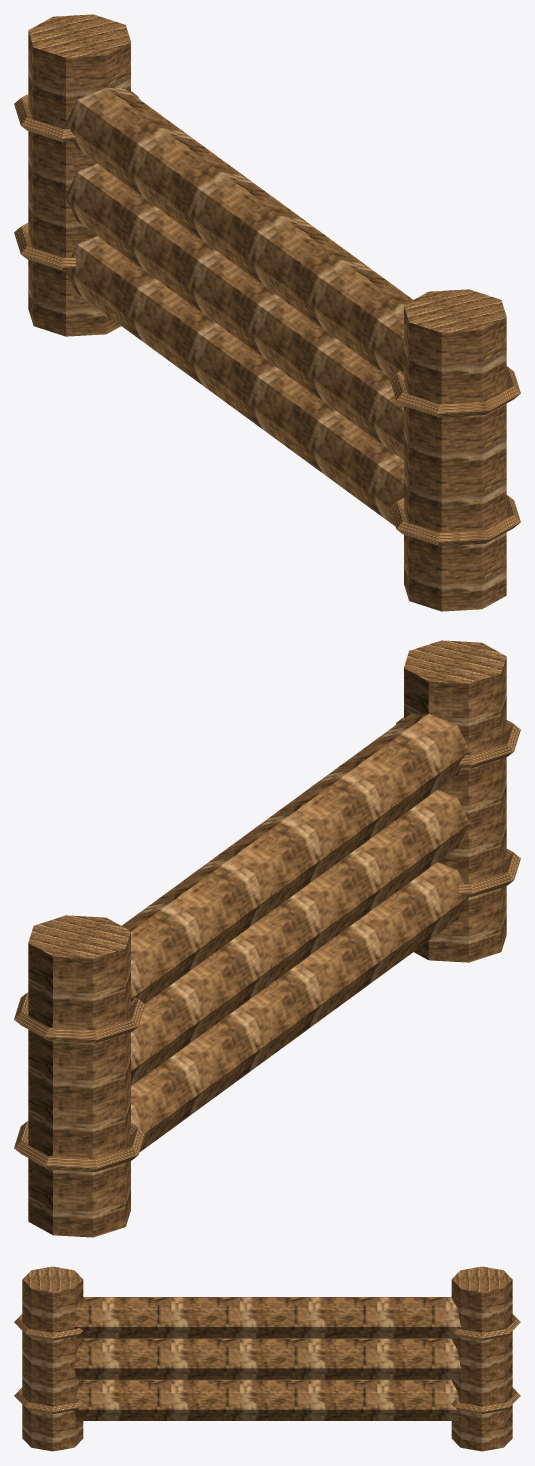
File: palisade.glb
The picture shows the model from 3 angles, top to bottom: view 1: azimuth 30°, elevation 25°; view 2: azimuth 150°, elevation 25°; view 3: azimuth 270°, elevation 25°; orthographic projection. The views are drawn at different scales.
Visible parts, largest first — view 1: Palisade; view 2: Palisade; view 3: Palisade.
Part boxes in pixels (x1=…): Palisade: x1=14, y1=14, x2=520, y2=611; Palisade: x1=14, y1=640, x2=520, y2=1237; Palisade: x1=14, y1=1266, x2=520, y2=1451.
Bounding box in the file's own units: 0.46 × 1.04 × 3.
1 material, 1 textured.
